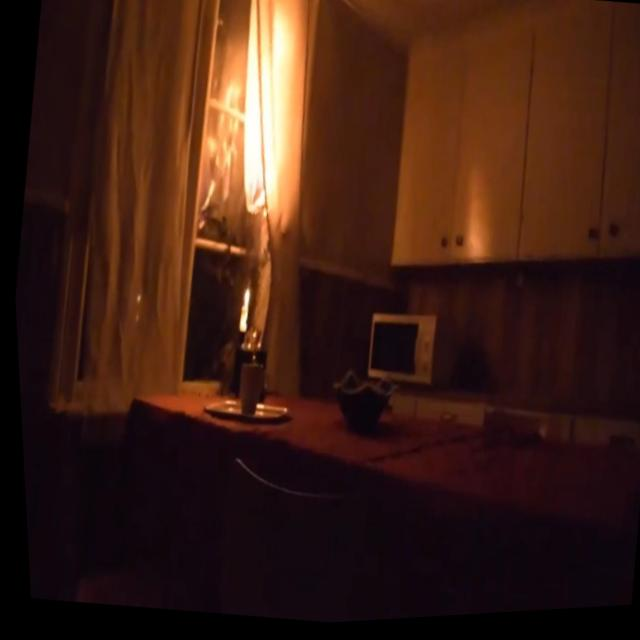fire: (213, 0, 320, 222), (238, 290, 249, 309)
